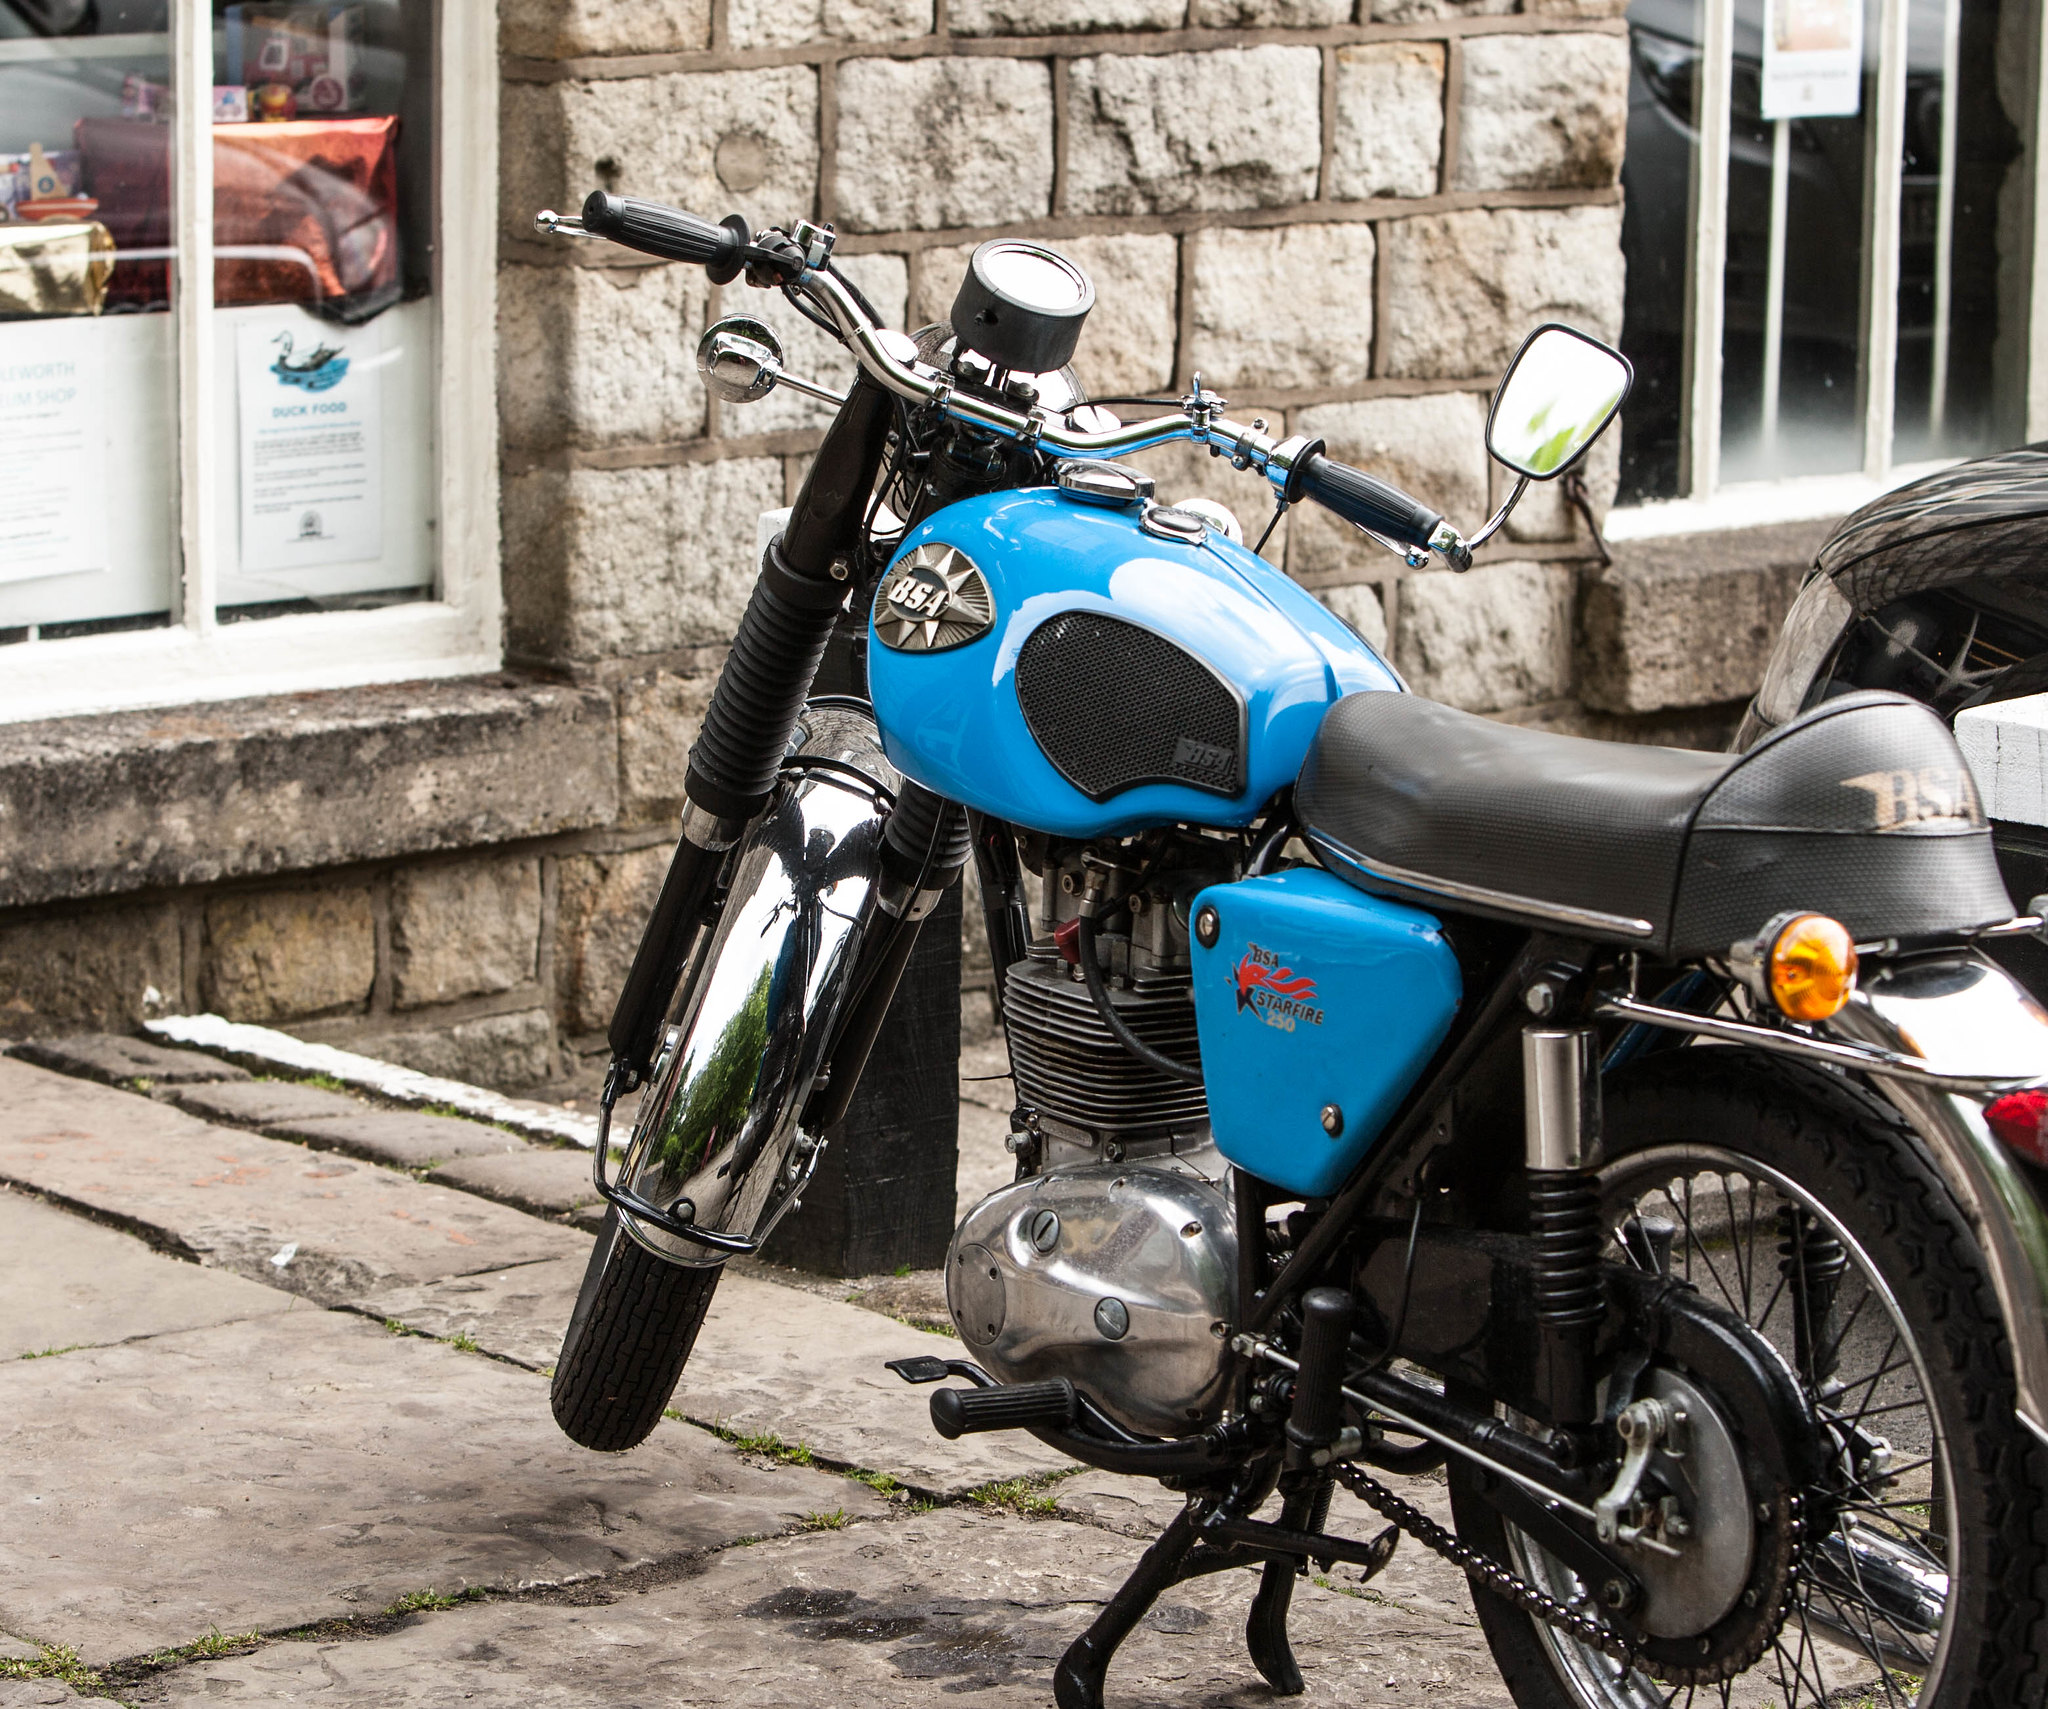motor bike: (531, 173, 2048, 1702)
